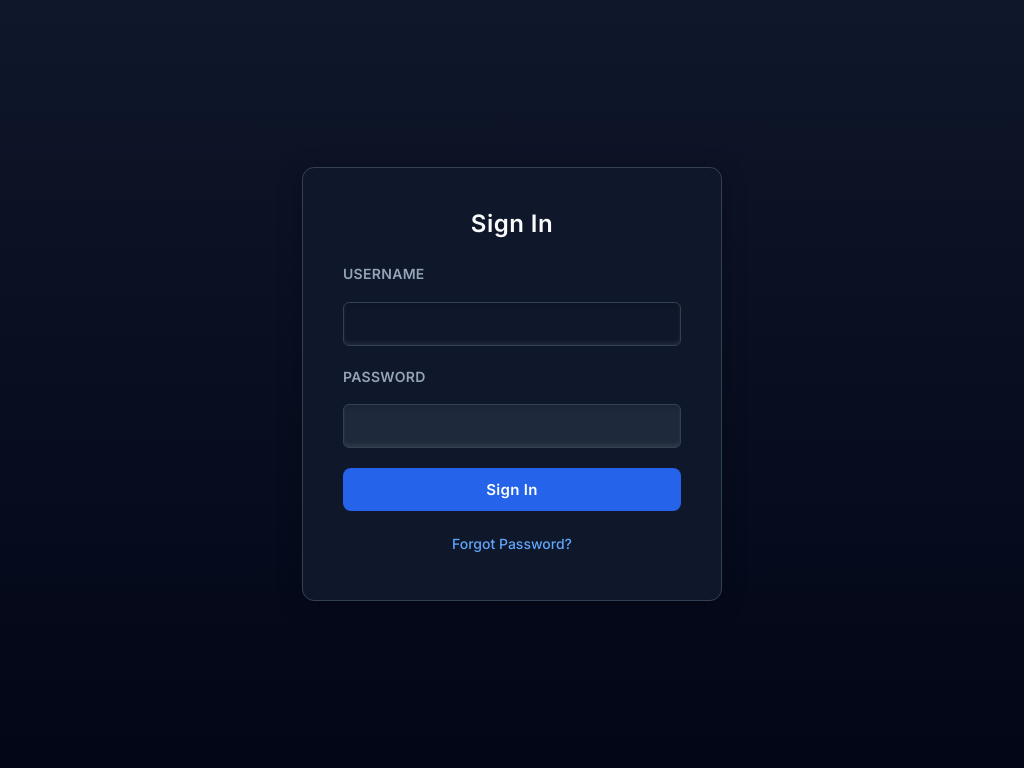
Login Component › UI-LOGIN-009: Display loading state during sign in
Type "test@example.com" into the field labelled "Username" at (512, 324), box [343,302,681,346]
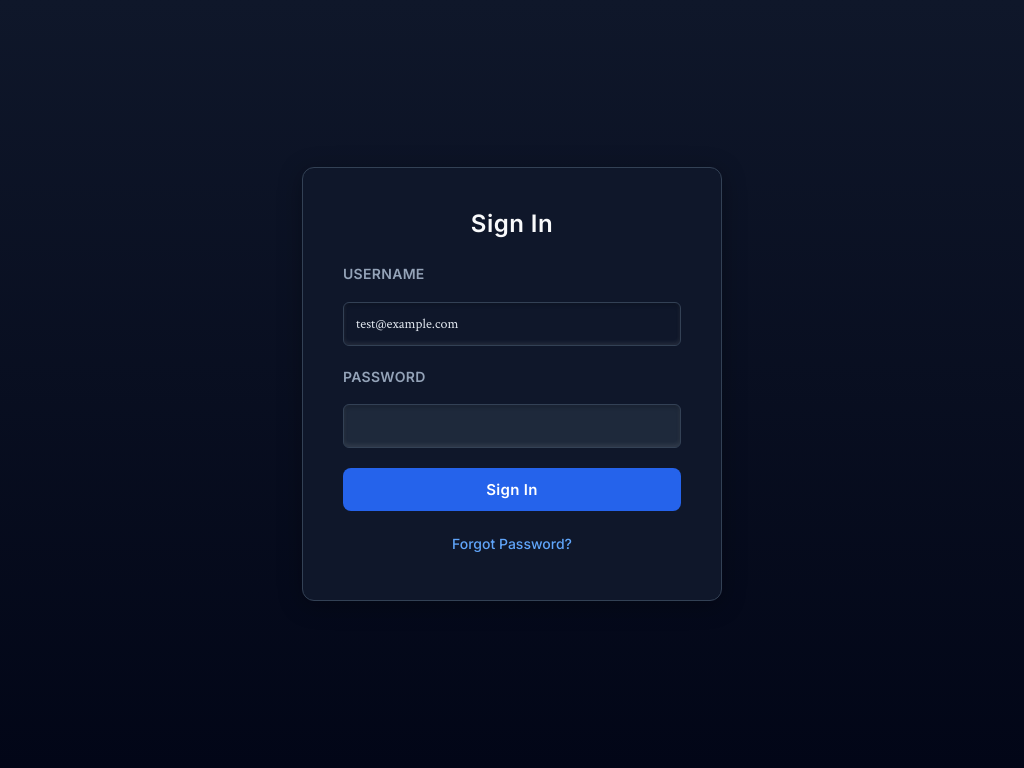
Type "password123" into the password field labelled "Password" at (512, 426), box [343,404,681,448]
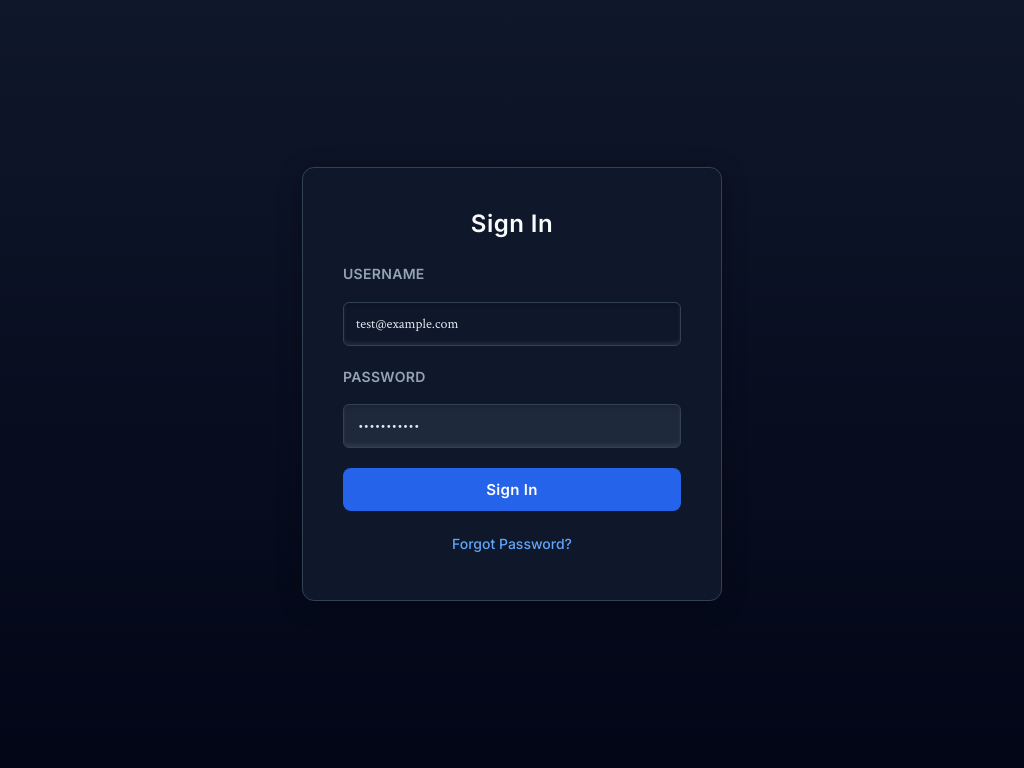
Click the button "Sign In" at (512, 490), box [343,468,681,511]
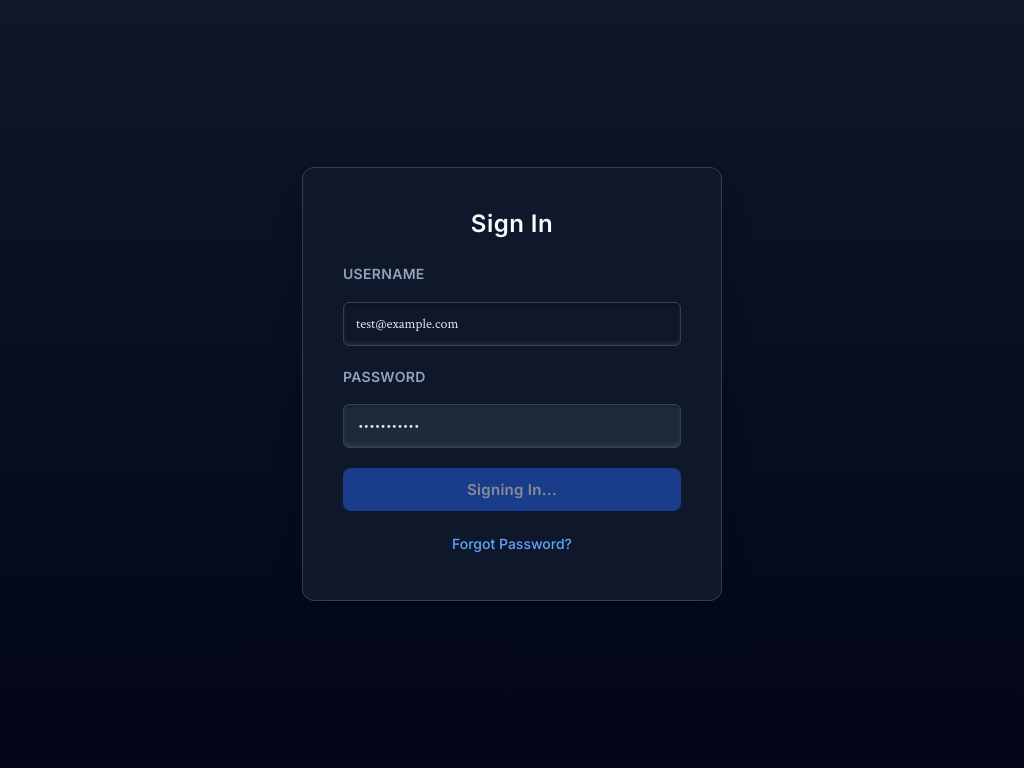
Expected: the button "Signing In..." is disabled, [343,468,681,511]
